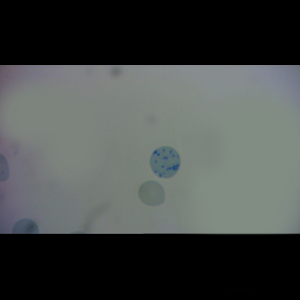aggregate reticulocyte: (148, 145, 182, 180)
erythrocyte: (136, 179, 167, 207)
